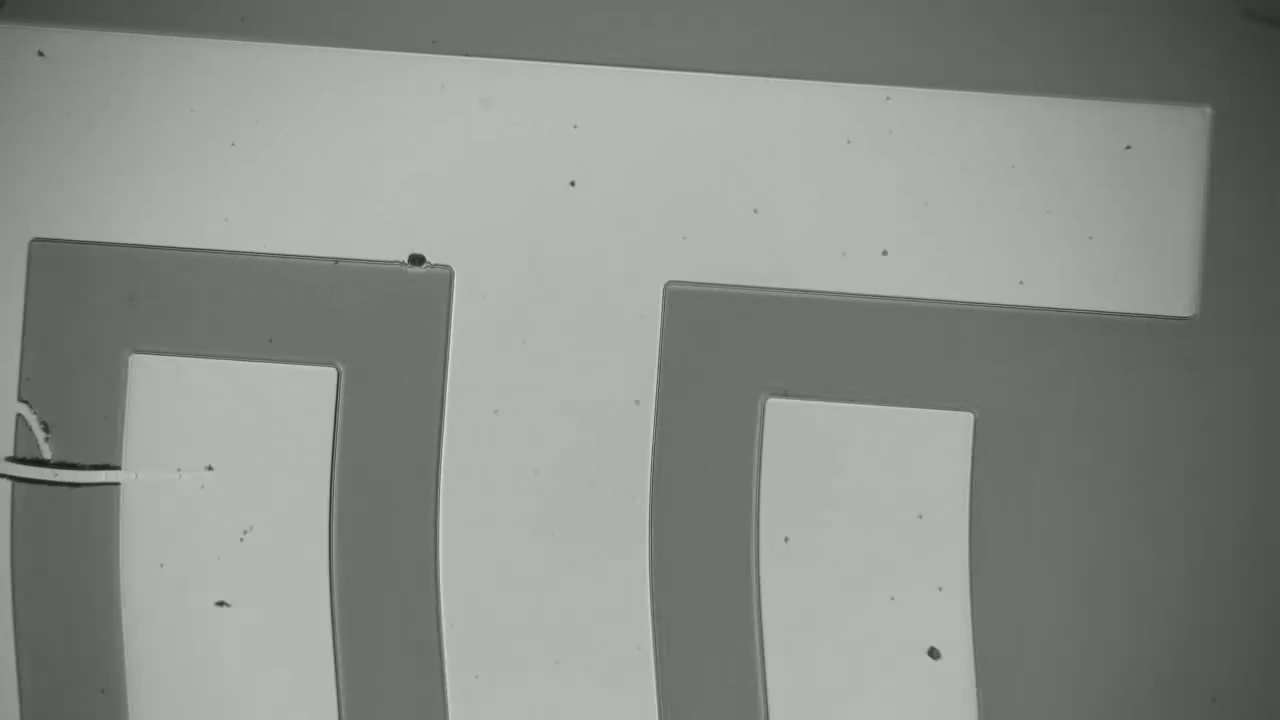Short_circuit: (0, 435, 153, 505)
